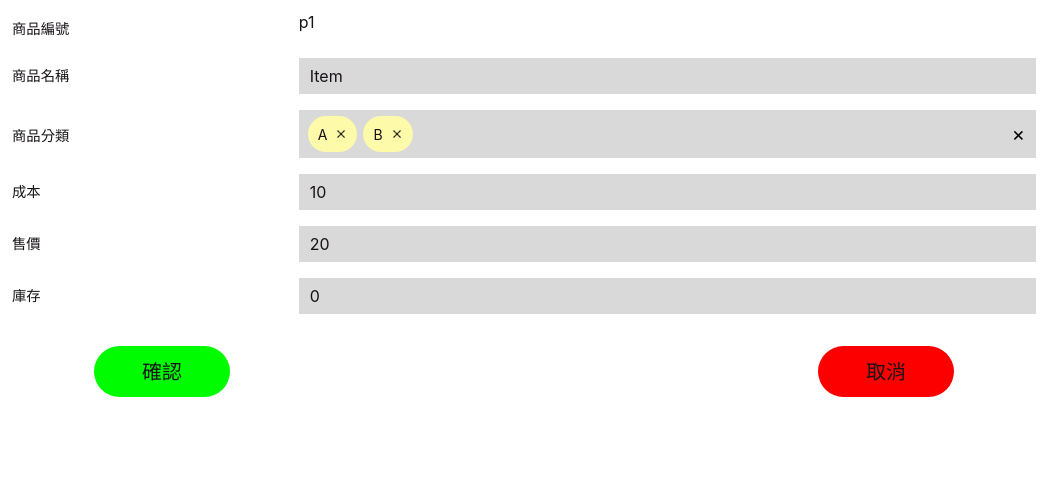
Test case: ProductForm › displays field-specific minimum errors instead of being blocked by native validation
Step 1. Replace the text in the number field labelled "成本" with "0" → (667, 192), box [299,174,1036,210]
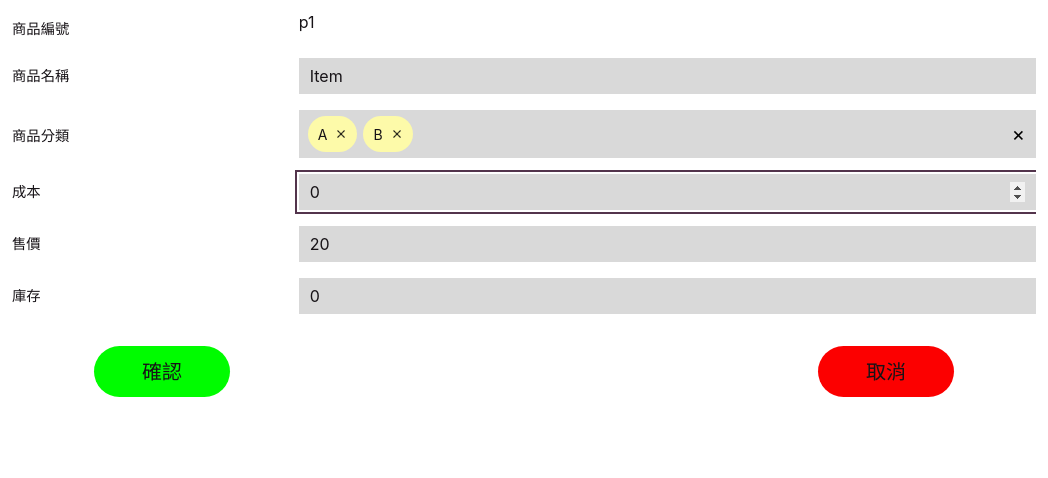
Step 2. Click the button "確認" → (162, 372), box [94,346,230,397]
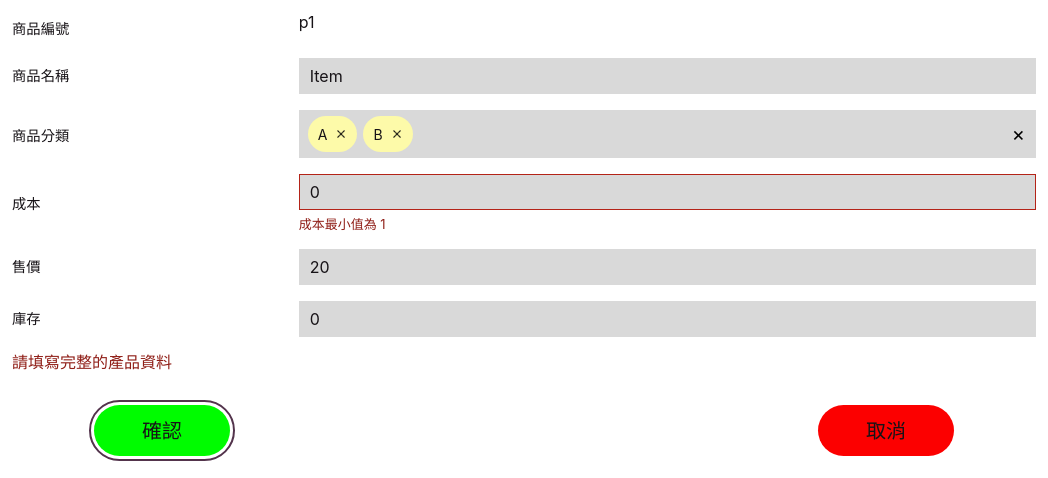
Result: the message reads "請填寫完整的產品資料" at [12,352,172,372]
